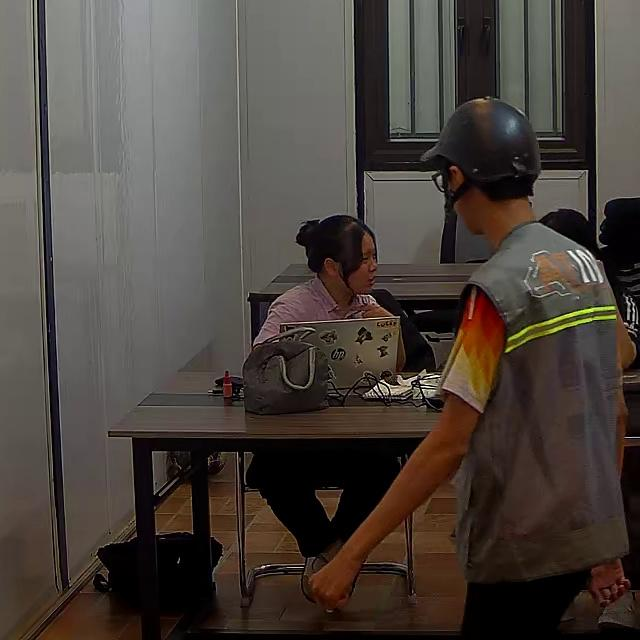no_helmet: (295, 215, 372, 277)
none: (250, 277, 383, 355)
vest: (452, 227, 628, 578)
